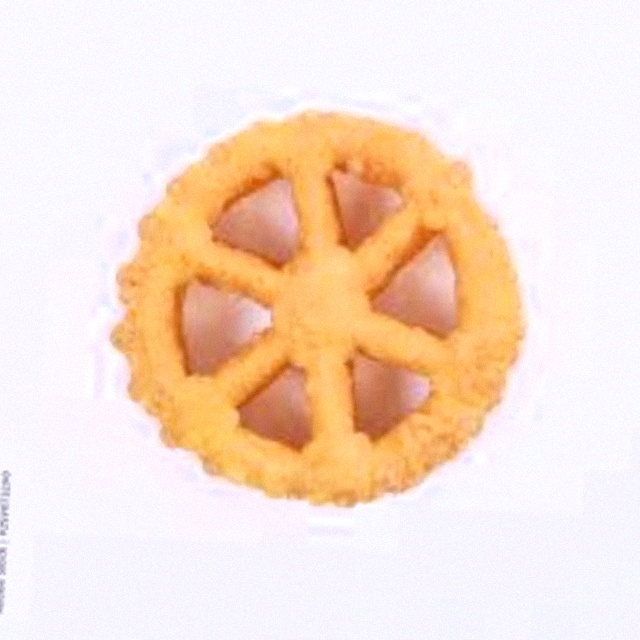Kokis: (91, 69, 549, 571)
